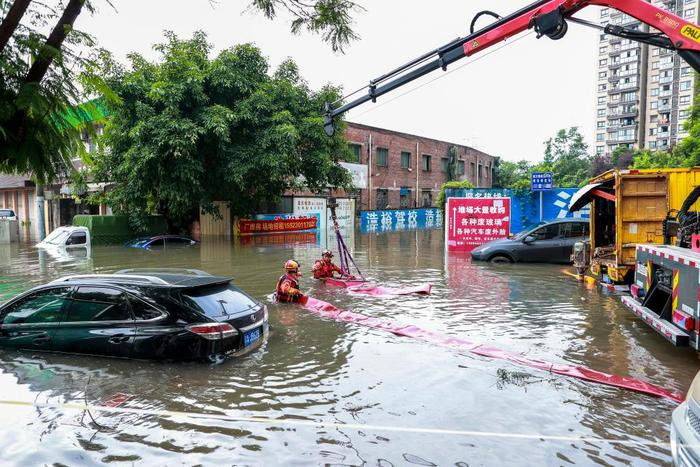puddle: (1, 245, 611, 467)
